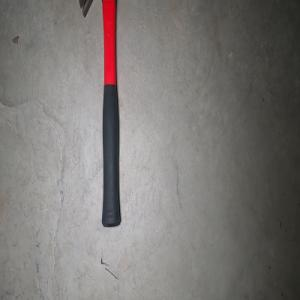Hammer: (78, 0, 140, 228)
